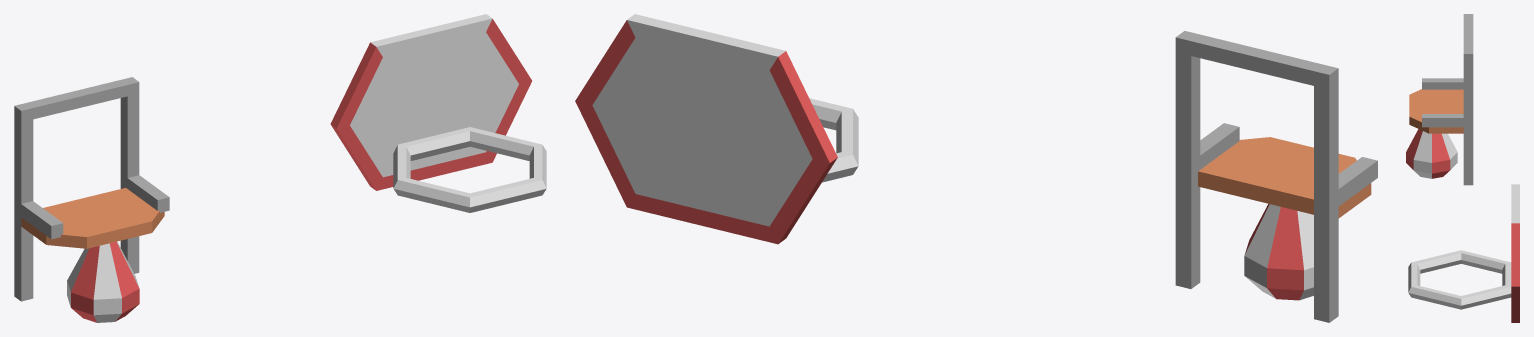
The model's file is Ballon_Stand.fbx.
3 renders of one model, left to right at view 1: azimuth 30°, elevation 25°; view 2: azimuth 150°, elevation 25°; view 3: azimuth 270°, elevation 25°, orthographic. The views are drawn at different scales.
Parts seen in each view (by area): view 1: Stand12, Stand16, Stand17, Ballon; view 2: Stand12, Stand16, Stand17, Ballon; view 3: Stand12, Stand16, Ballon, Stand17.
Part boxes in pixels (<box>): Stand12: <box>330,14,546,212</box>; Stand16: <box>14,77,169,301</box>; Stand17: <box>21,188,164,248</box>; Ballon: <box>67,241,139,322</box>; Stand12: <box>575,14,858,244</box>; Stand16: <box>1175,31,1377,322</box>; Stand17: <box>1198,137,1371,218</box>; Ballon: <box>1244,204,1313,300</box>; Stand12: <box>1408,184,1519,322</box>; Stand16: <box>1422,14,1473,185</box>; Ballon: <box>1406,129,1457,178</box>; Stand17: <box>1409,89,1463,133</box>.
Bounding box in the file's own units: 7.76 × 2.78 × 2.03.
